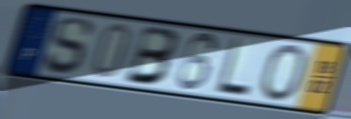0: (88, 22, 133, 81)
6: (176, 31, 219, 93)
B: (122, 24, 181, 88)
L: (214, 35, 253, 99)
O: (258, 43, 310, 104)
S: (42, 16, 95, 76)
